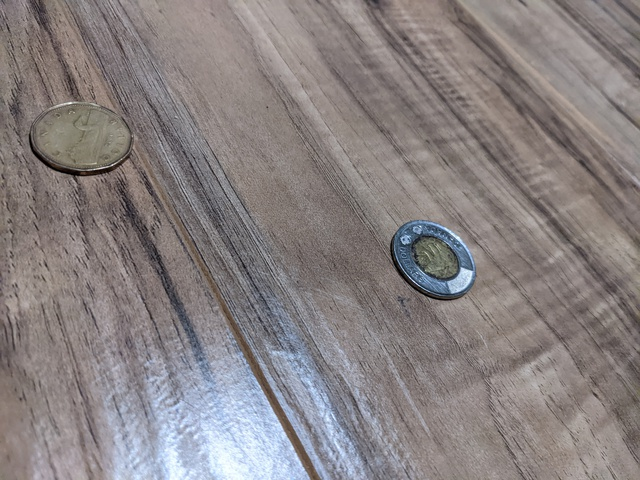loonie: (22, 94, 144, 179)
twonie: (389, 213, 486, 300)
